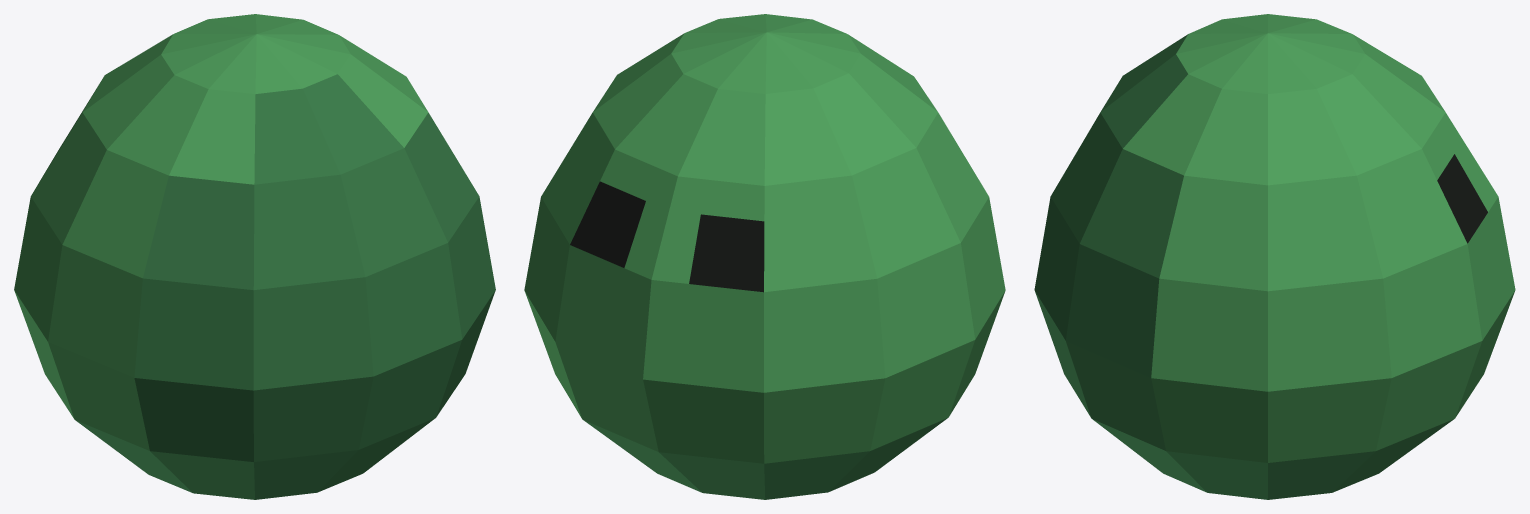
The model's file is slime.glb.
3 renders of one model, left to right at view 1: azimuth 30°, elevation 25°; view 2: azimuth 150°, elevation 25°; view 3: azimuth 270°, elevation 25°, orthographic.
Parts seen in each view (by area): view 1: Slime; view 2: Slime; view 3: Slime.
Boxes of the visible parts, x1,y1,x2,y2 form: Slime: (14, 14, 495, 499); Slime: (524, 14, 1005, 499); Slime: (1034, 14, 1515, 499).
Bounding box in the file's own units: 0.7276 × 0.69 × 0.7267.
